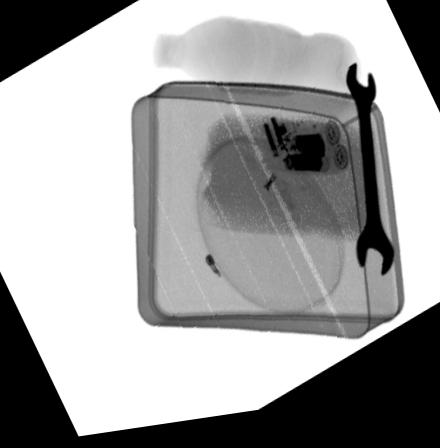Wrench: (345, 70, 394, 289)
